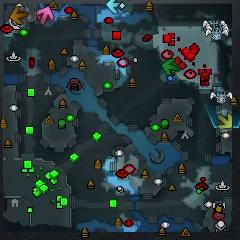x1: (37, 7, 53, 24)
x2: (217, 113, 234, 130)
x3: (106, 0, 125, 14)
x4: (162, 58, 182, 76)
x5: (10, 7, 28, 23)
